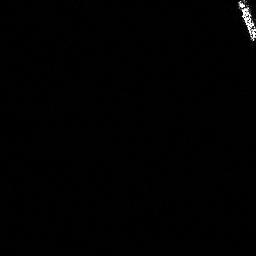ship: (234, 1, 255, 43)
